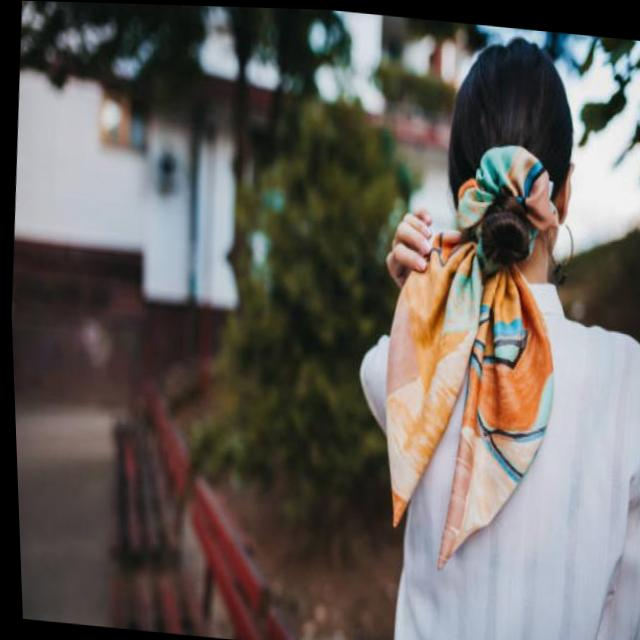no helmet: (422, 39, 591, 288)
